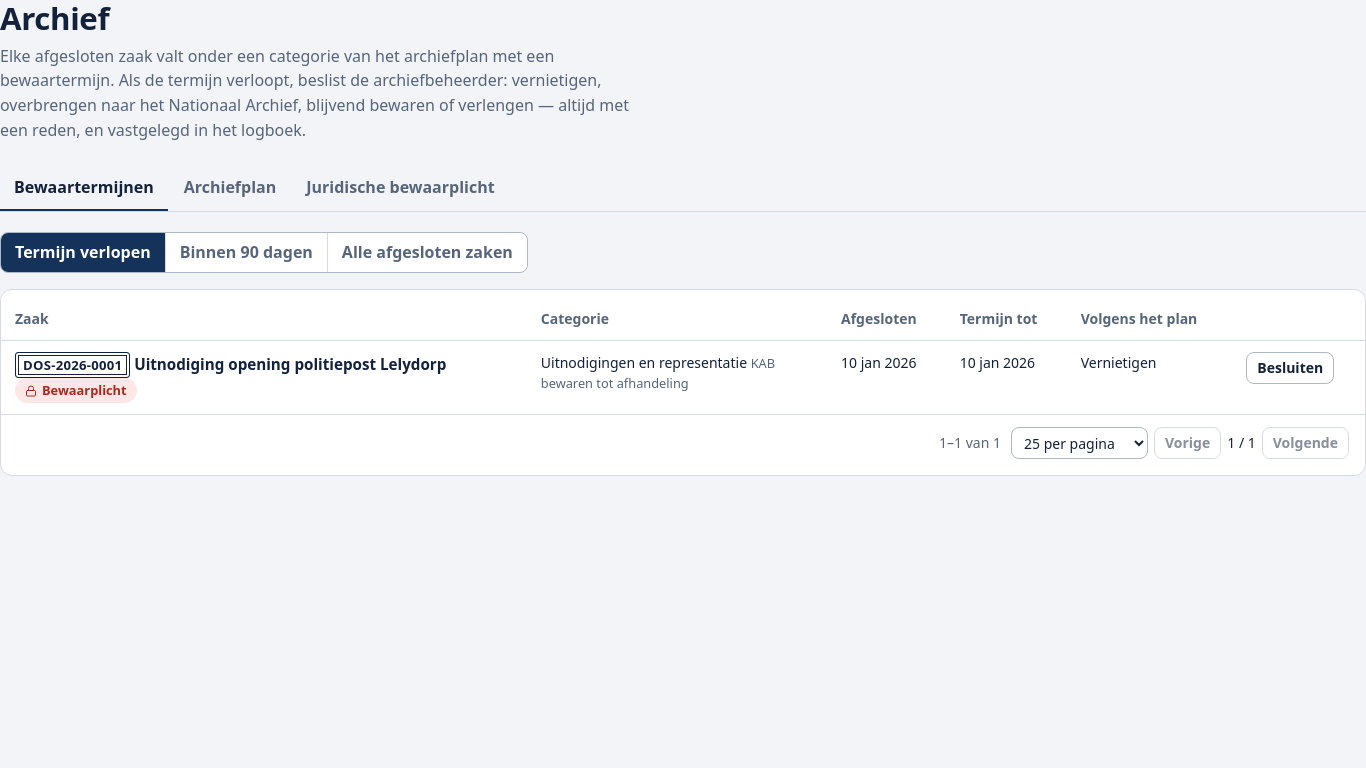
Scenario: Retention decisions › refuses destruction and transfer while a legal hold is on, but allows keeping it
Click the button "Besluiten" at (1290,368), box [1246,352,1334,384]
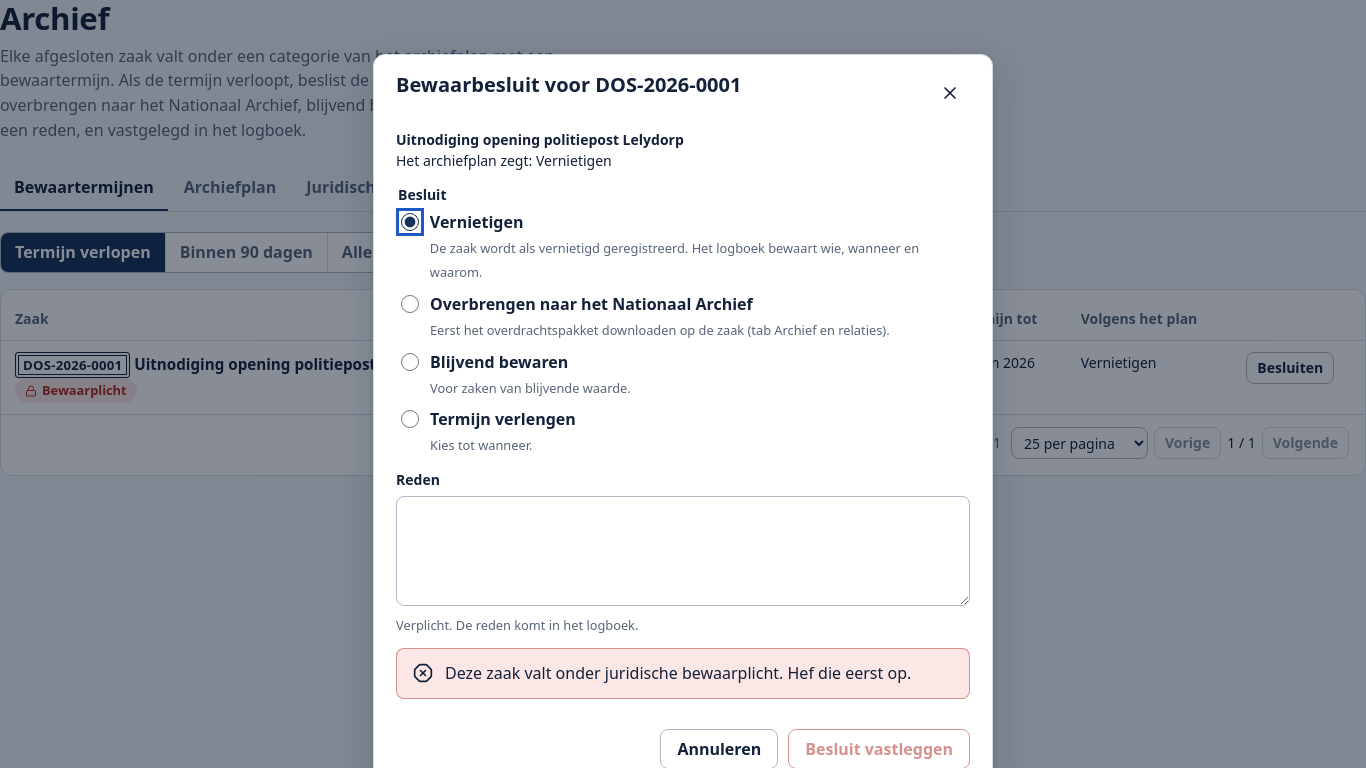
Type "Rechtszaak loopt" into the text box labelled "Reden" at (683,551), box [396,496,970,606]
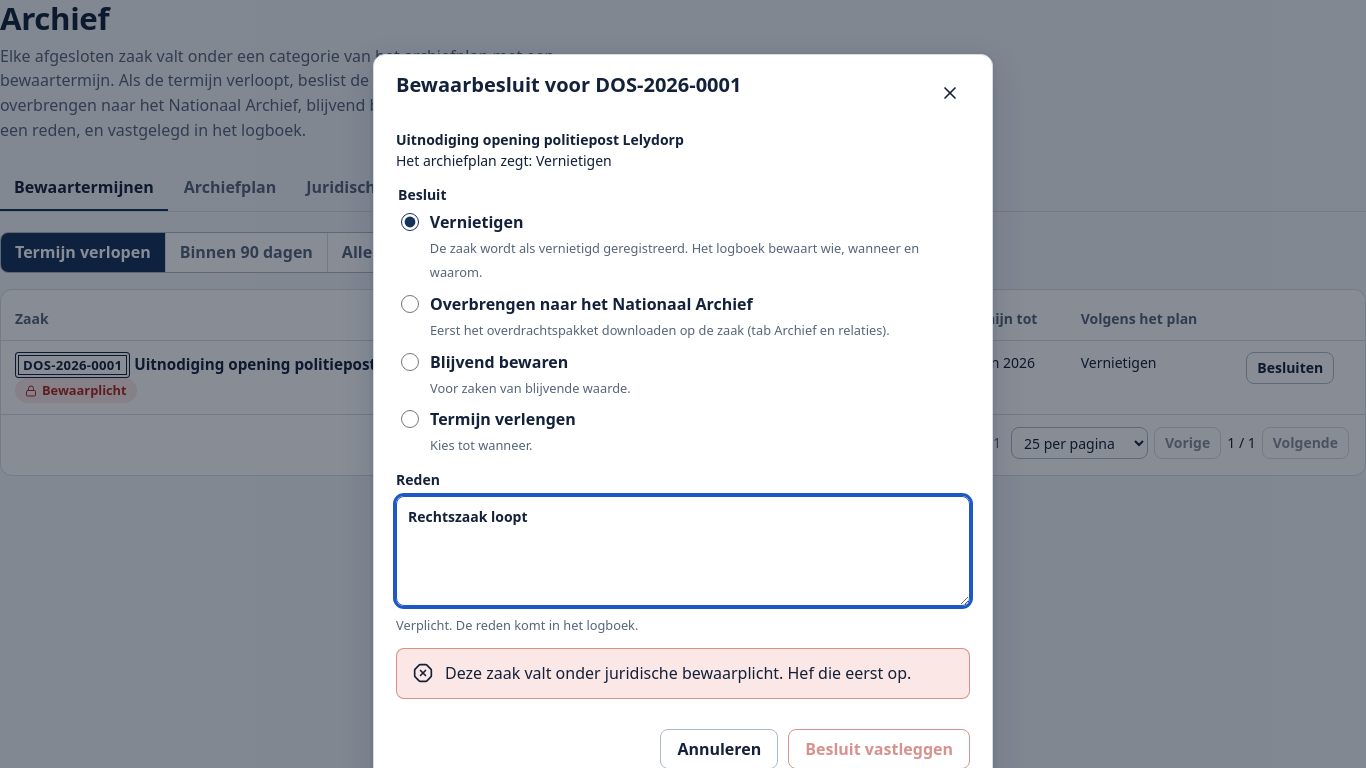
expect the text "valt onder juridische bewaarplicht" is shown: met, box [445,662,911,684]
expect the button "Besluit vastleggen" is disabled: met, box [788,729,970,767]
Click the radio button labelled "Blijvend bewaren" at (410,362), box [401,353,419,371]
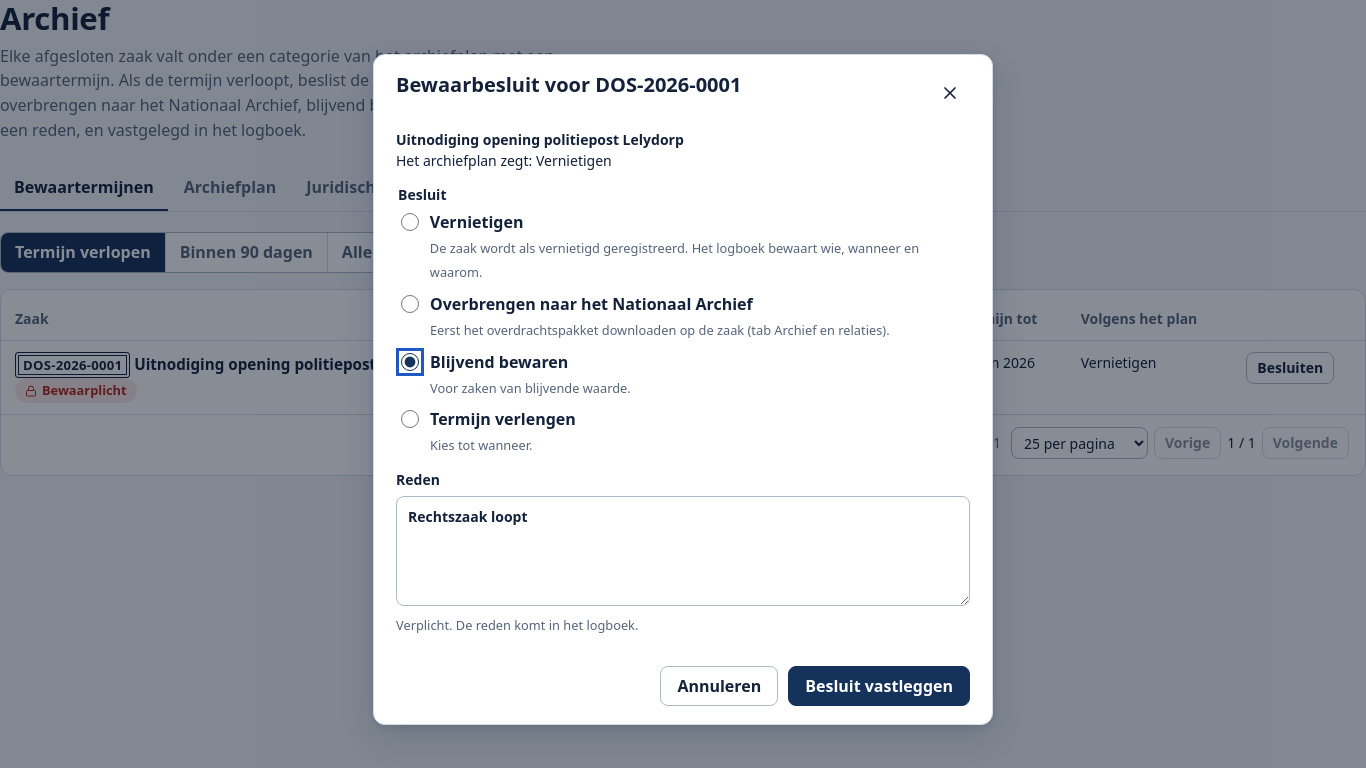
expect the button "Besluit vastleggen" is enabled: met, box [788,666,970,706]
